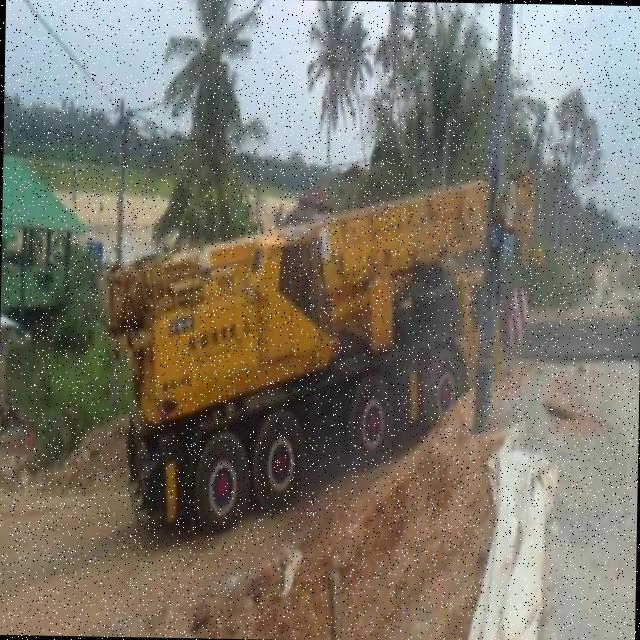Mobile Crane: (98, 140, 530, 490)
